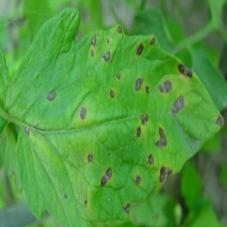Bacterial Spot: (0, 6, 227, 227)
